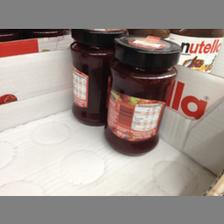Marmelade: (104, 35, 182, 155), (69, 27, 125, 126)
